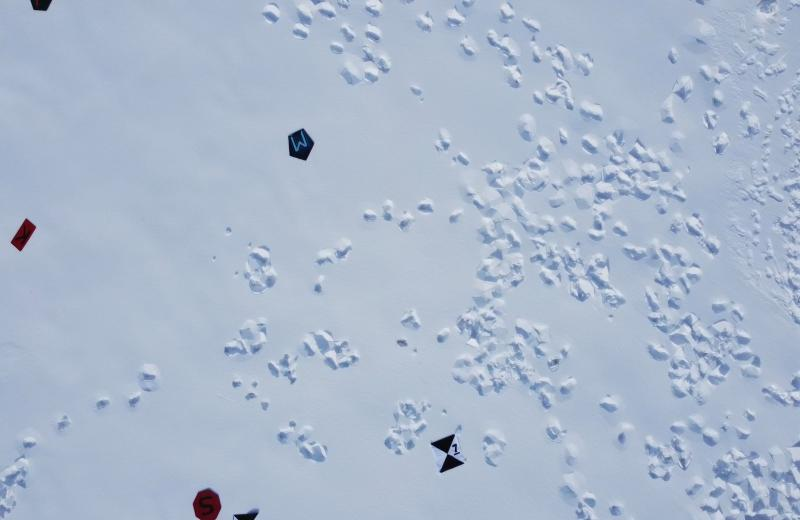Octagon: (192, 484, 222, 520)
Pentagon: (286, 126, 314, 160)
Rectangle: (10, 214, 40, 256)
